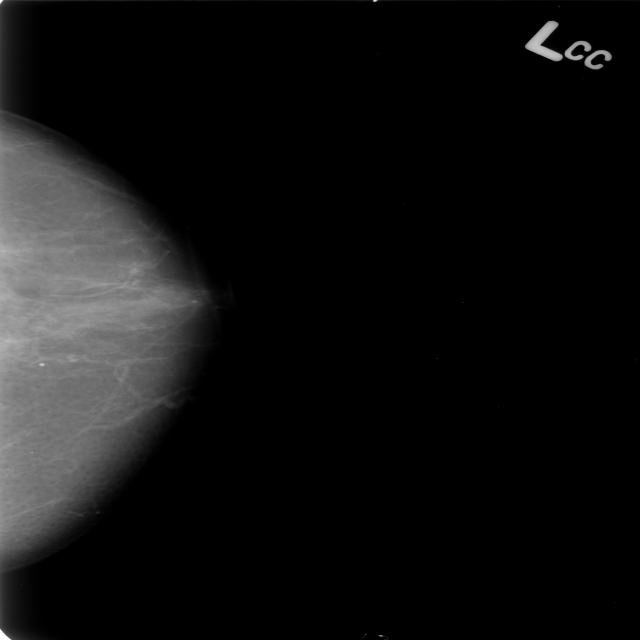normal: (0, 119, 214, 592)
